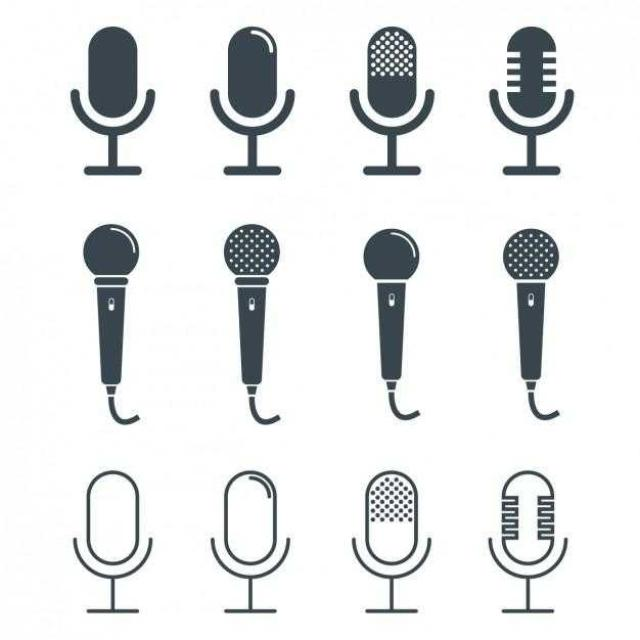microphone: (351, 29, 432, 174), (211, 29, 291, 175), (491, 29, 570, 174), (210, 472, 286, 610), (504, 228, 560, 415), (224, 223, 280, 409), (85, 223, 139, 414), (73, 473, 147, 612), (356, 472, 430, 610), (364, 228, 420, 410), (490, 476, 562, 612), (87, 26, 142, 123), (364, 230, 419, 280), (84, 226, 138, 276)
